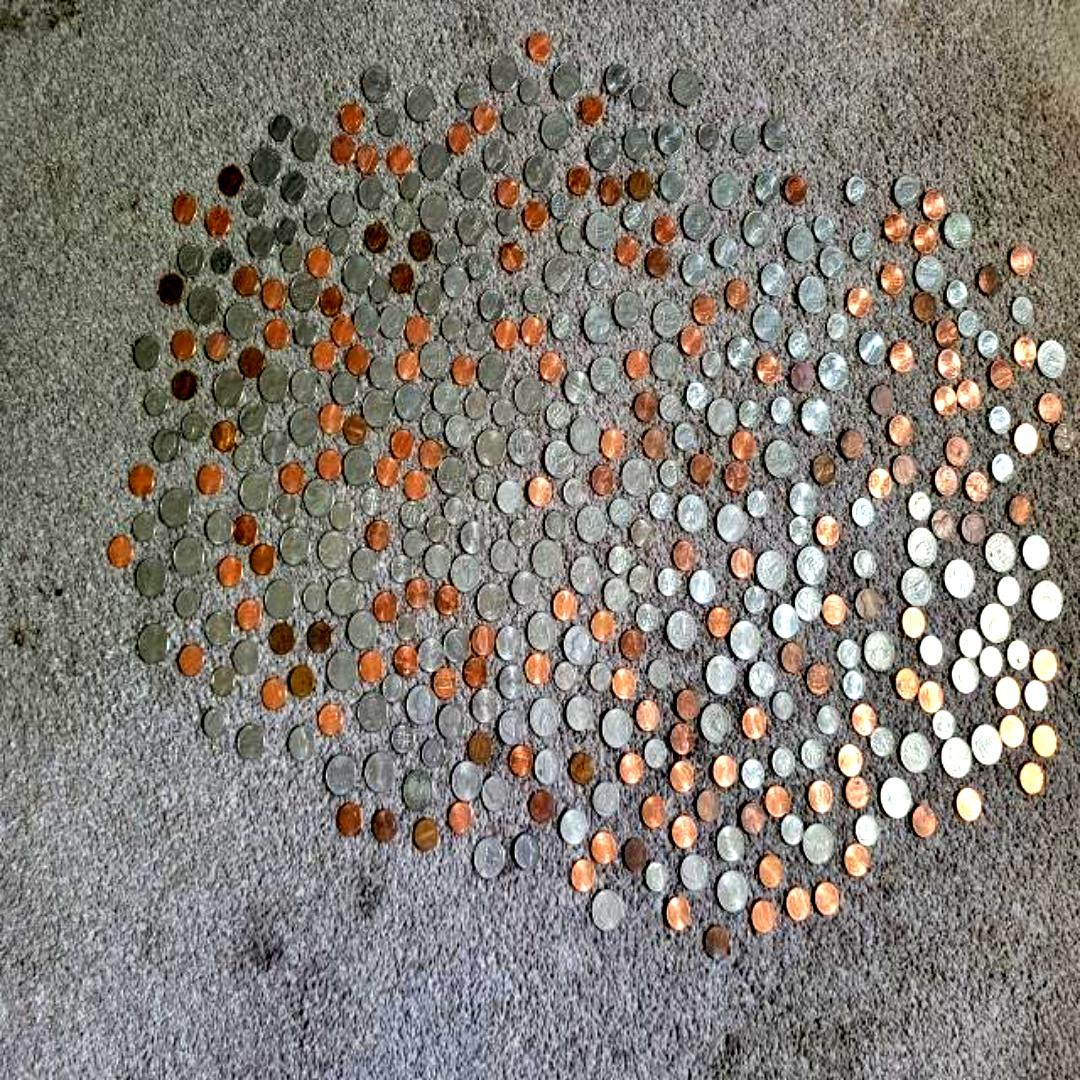Dime: (132, 512, 156, 542), (908, 491, 932, 521), (990, 452, 1014, 482), (1024, 681, 1048, 711), (958, 629, 982, 659), (920, 636, 944, 666), (932, 710, 956, 740), (870, 727, 894, 757), (772, 747, 796, 777), (204, 708, 228, 738), (212, 667, 236, 697), (857, 813, 878, 846), (851, 498, 874, 528), (175, 587, 198, 617), (144, 388, 168, 416), (426, 515, 450, 543), (981, 646, 1002, 678), (838, 639, 860, 669), (818, 705, 840, 735), (802, 738, 824, 768), (744, 585, 766, 615), (554, 661, 576, 691), (422, 738, 444, 768), (465, 392, 488, 420), (275, 494, 298, 522), (630, 519, 653, 547), (843, 671, 866, 699), (782, 813, 802, 845), (404, 528, 425, 558), (609, 545, 630, 575), (659, 567, 680, 597), (772, 691, 793, 721), (742, 759, 763, 789), (270, 113, 292, 141), (394, 201, 416, 229), (436, 237, 458, 265), (520, 78, 542, 106), (1012, 296, 1034, 324), (738, 400, 760, 428), (686, 382, 708, 410), (468, 253, 490, 281), (294, 319, 316, 347), (282, 245, 304, 273), (182, 413, 204, 441), (234, 444, 256, 472), (330, 503, 352, 531), (444, 496, 466, 524), (400, 501, 422, 529), (422, 410, 444, 438), (474, 472, 496, 500), (510, 519, 532, 547), (636, 604, 658, 632), (590, 664, 612, 692), (392, 725, 414, 753), (382, 674, 404, 702), (396, 613, 418, 641), (304, 584, 326, 612), (564, 478, 584, 508), (630, 565, 650, 595), (998, 576, 1018, 606), (646, 862, 666, 892), (244, 190, 266, 217), (788, 331, 810, 358), (378, 108, 399, 136), (305, 209, 326, 237), (327, 227, 348, 255), (458, 82, 479, 110), (560, 226, 581, 254), (551, 193, 572, 221), (733, 126, 754, 154), (852, 232, 873, 260), (959, 310, 980, 338), (946, 281, 967, 309), (441, 314, 462, 342), (392, 556, 413, 584), (661, 460, 682, 488), (675, 422, 696, 450), (648, 660, 669, 688), (698, 124, 719, 151), (276, 216, 296, 244), (401, 172, 421, 200), (503, 106, 523, 134), (498, 208, 518, 236), (632, 82, 652, 110), (624, 204, 644, 232), (846, 177, 866, 205), (990, 406, 1010, 434), (978, 330, 998, 358), (702, 350, 722, 378), (660, 394, 680, 422), (588, 262, 608, 290), (524, 285, 544, 313), (494, 399, 514, 427), (468, 323, 488, 351), (362, 488, 382, 516), (546, 512, 566, 540), (610, 498, 630, 526), (650, 492, 670, 520), (748, 490, 768, 518), (790, 517, 810, 545), (854, 550, 874, 578), (646, 739, 666, 767), (546, 402, 567, 428), (370, 276, 391, 302), (814, 215, 834, 242), (828, 313, 848, 340), (772, 397, 792, 424), (552, 313, 572, 340), (212, 246, 232, 273)
Nickel: (237, 724, 265, 760), (442, 628, 470, 664), (498, 708, 526, 744), (717, 826, 745, 862), (604, 576, 630, 614), (514, 832, 540, 870), (262, 429, 290, 464), (206, 510, 234, 545), (233, 639, 261, 674), (424, 544, 452, 579), (567, 696, 594, 732), (689, 568, 716, 604), (794, 586, 821, 622), (681, 854, 708, 890), (481, 776, 508, 812), (206, 610, 232, 647), (1022, 536, 1050, 570), (134, 336, 162, 370), (749, 661, 776, 696), (472, 688, 498, 724), (952, 658, 978, 694), (289, 727, 317, 760), (418, 639, 446, 672), (755, 170, 782, 204), (788, 482, 815, 516), (239, 402, 266, 436), (459, 520, 486, 554), (560, 810, 587, 844), (378, 306, 406, 338), (437, 705, 464, 738), (772, 604, 799, 637), (330, 192, 356, 226), (760, 262, 786, 296), (564, 370, 590, 404), (594, 782, 620, 816), (536, 748, 560, 784), (153, 430, 180, 462), (332, 372, 357, 406), (354, 304, 379, 338), (248, 227, 274, 259), (282, 172, 308, 204), (358, 177, 384, 209), (480, 290, 506, 322), (656, 122, 682, 154), (512, 572, 538, 604), (496, 628, 522, 660), (820, 246, 846, 278), (180, 244, 204, 278), (460, 166, 484, 200), (606, 62, 630, 96), (714, 234, 738, 268), (728, 336, 752, 370), (292, 128, 317, 160), (292, 370, 317, 402), (416, 282, 441, 314), (492, 538, 516, 571), (500, 667, 524, 700), (444, 266, 468, 298), (484, 140, 508, 172), (764, 118, 788, 150), (624, 127, 648, 159), (660, 170, 684, 202), (860, 332, 884, 364), (498, 482, 522, 514), (434, 382, 458, 414), (446, 416, 470, 448), (370, 356, 394, 388), (352, 548, 376, 580), (682, 254, 706, 286), (894, 176, 918, 208)
Penny: (528, 790, 556, 822), (508, 744, 534, 777), (204, 331, 230, 363), (160, 273, 186, 305), (886, 413, 912, 445), (740, 802, 766, 834), (590, 832, 616, 864), (260, 677, 286, 709), (960, 512, 986, 544), (196, 462, 220, 496), (812, 452, 836, 486), (270, 623, 295, 655), (912, 807, 936, 840), (844, 843, 868, 876), (808, 780, 832, 813), (786, 887, 810, 920), (764, 785, 788, 818), (174, 368, 197, 402), (814, 516, 840, 546), (854, 589, 880, 619), (524, 654, 550, 684), (470, 625, 496, 655), (346, 344, 370, 376), (130, 464, 154, 496), (892, 453, 916, 485), (930, 508, 954, 540), (990, 359, 1014, 391), (1012, 335, 1036, 367), (1032, 724, 1056, 756), (1000, 716, 1024, 748), (920, 681, 944, 713), (852, 703, 876, 735), (838, 744, 862, 776), (742, 708, 766, 740), (758, 856, 782, 888), (704, 926, 728, 958), (666, 898, 690, 930), (676, 689, 700, 721), (372, 810, 396, 842), (1019, 760, 1042, 793), (468, 732, 491, 764), (337, 804, 360, 836), (406, 578, 429, 610), (359, 651, 382, 683), (308, 622, 331, 654), (290, 664, 313, 696), (250, 543, 273, 575), (498, 244, 524, 272), (1008, 248, 1034, 276), (526, 31, 550, 61), (218, 166, 242, 196), (790, 362, 814, 392), (732, 430, 756, 460), (642, 429, 666, 459), (404, 470, 428, 500), (234, 267, 258, 297), (212, 420, 236, 450), (280, 463, 304, 493), (1038, 393, 1062, 423), (934, 466, 958, 496), (946, 436, 970, 466), (890, 343, 914, 373), (880, 264, 904, 294), (956, 789, 980, 819), (894, 669, 918, 699), (822, 595, 846, 625), (706, 607, 730, 637), (612, 668, 636, 698), (552, 590, 576, 620), (414, 819, 438, 849), (374, 593, 398, 623), (394, 647, 418, 677), (236, 599, 260, 629), (318, 448, 340, 480), (840, 430, 862, 462), (1010, 495, 1032, 527), (1014, 422, 1036, 454), (1034, 650, 1056, 682), (752, 900, 774, 932), (672, 816, 694, 848), (620, 752, 642, 784), (642, 796, 664, 828), (570, 752, 592, 784), (436, 583, 458, 615), (600, 431, 625, 459), (391, 263, 414, 293), (418, 440, 441, 470), (391, 430, 414, 460), (174, 193, 197, 223), (312, 339, 335, 369), (966, 472, 989, 502), (871, 385, 894, 415), (958, 381, 981, 411), (914, 224, 937, 254), (996, 679, 1019, 709), (901, 607, 924, 637), (669, 762, 692, 792), (622, 630, 645, 660), (636, 701, 659, 731), (319, 706, 342, 736), (435, 668, 458, 698), (179, 647, 202, 677), (581, 93, 602, 125), (520, 317, 544, 345), (266, 320, 290, 348), (206, 207, 230, 235), (344, 416, 368, 444), (624, 839, 645, 871), (218, 558, 242, 586), (388, 145, 410, 175), (410, 231, 432, 261), (524, 201, 546, 231), (634, 393, 656, 423), (494, 320, 516, 350), (452, 355, 474, 385), (262, 279, 284, 309), (240, 347, 262, 377), (320, 403, 342, 433), (672, 540, 694, 570), (868, 469, 890, 499), (934, 386, 956, 416), (978, 266, 1000, 296), (884, 214, 906, 244), (846, 777, 868, 807), (816, 882, 836, 915), (714, 755, 736, 785), (672, 724, 694, 754), (592, 611, 614, 641), (464, 658, 486, 688), (366, 519, 388, 549), (110, 536, 132, 566), (680, 328, 704, 355), (341, 105, 364, 133), (539, 353, 562, 381), (936, 320, 959, 348), (732, 548, 752, 580), (914, 291, 934, 323), (572, 858, 592, 890), (450, 802, 470, 834), (236, 515, 256, 547), (357, 145, 378, 175), (367, 223, 388, 253), (601, 175, 622, 205), (727, 280, 748, 310), (407, 317, 428, 347), (849, 287, 870, 317), (448, 124, 470, 152), (568, 167, 590, 195), (332, 318, 354, 346), (308, 248, 330, 276), (630, 171, 650, 201), (656, 215, 676, 245), (694, 295, 714, 325), (690, 454, 710, 484), (322, 287, 342, 317), (1054, 423, 1074, 453), (808, 664, 828, 694), (698, 790, 718, 820), (332, 135, 354, 162), (473, 105, 494, 133), (646, 248, 667, 276), (756, 356, 777, 384), (378, 458, 399, 486), (923, 191, 944, 219), (617, 237, 638, 264), (498, 179, 518, 207), (785, 176, 805, 204), (726, 464, 746, 492), (628, 350, 648, 378), (592, 465, 612, 493), (530, 477, 550, 505), (174, 331, 194, 359), (938, 350, 958, 378), (782, 644, 802, 672), (397, 352, 418, 378)
Quarter: (451, 760, 483, 802), (899, 732, 931, 774), (592, 888, 622, 931), (717, 871, 747, 914), (1031, 581, 1063, 621), (473, 837, 505, 877), (602, 707, 632, 749), (403, 770, 433, 812), (803, 823, 833, 865), (942, 737, 972, 779), (900, 568, 932, 606), (279, 528, 311, 566), (136, 558, 168, 596), (241, 472, 271, 512), (730, 620, 760, 660), (864, 631, 894, 671), (706, 655, 736, 695), (716, 503, 746, 543), (529, 697, 559, 737), (565, 625, 595, 665), (358, 692, 388, 732), (365, 752, 395, 792), (701, 703, 731, 743), (880, 777, 910, 817), (971, 724, 1001, 764), (161, 490, 191, 528), (265, 579, 295, 617), (188, 286, 218, 324), (225, 303, 255, 341), (544, 256, 574, 294), (652, 299, 682, 337), (710, 172, 740, 210), (943, 212, 973, 250), (980, 604, 1010, 642), (986, 534, 1016, 572), (944, 561, 974, 599), (907, 528, 937, 566), (818, 353, 848, 391), (798, 546, 828, 584), (756, 551, 786, 589), (667, 611, 697, 649), (678, 495, 708, 533), (621, 458, 651, 496), (527, 612, 557, 650), (571, 556, 601, 594), (576, 506, 606, 544), (451, 555, 481, 593), (406, 686, 436, 724), (328, 651, 358, 689), (348, 611, 378, 649), (328, 578, 358, 616), (318, 530, 348, 568), (344, 448, 374, 486), (290, 409, 320, 447), (139, 625, 169, 663), (173, 538, 203, 576), (326, 756, 356, 794), (533, 540, 563, 578), (305, 479, 335, 516), (583, 307, 613, 344), (915, 254, 945, 291), (1037, 341, 1067, 378), (765, 440, 795, 477), (590, 356, 620, 393), (569, 417, 599, 454), (476, 431, 506, 468), (706, 399, 736, 436), (343, 256, 373, 292), (420, 144, 450, 180), (752, 304, 782, 340), (514, 378, 544, 414), (362, 390, 392, 426), (258, 366, 288, 402), (214, 372, 244, 408), (291, 274, 319, 312), (552, 62, 580, 100), (589, 134, 617, 172), (586, 212, 614, 250), (615, 291, 643, 329), (683, 203, 711, 241), (744, 211, 772, 249), (786, 224, 814, 262), (801, 396, 829, 434), (477, 583, 505, 621), (395, 383, 423, 421), (438, 457, 466, 495), (540, 113, 568, 150), (653, 342, 681, 379), (672, 70, 700, 107), (799, 276, 827, 313), (509, 428, 537, 465), (479, 352, 507, 389), (362, 66, 390, 102), (406, 86, 434, 122), (458, 210, 486, 246), (421, 342, 449, 378), (545, 442, 573, 478), (526, 156, 554, 190), (253, 150, 281, 184), (421, 196, 449, 230), (490, 56, 518, 90)
